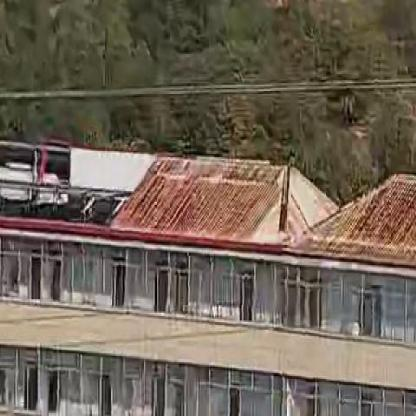other: (122, 132, 385, 263)
